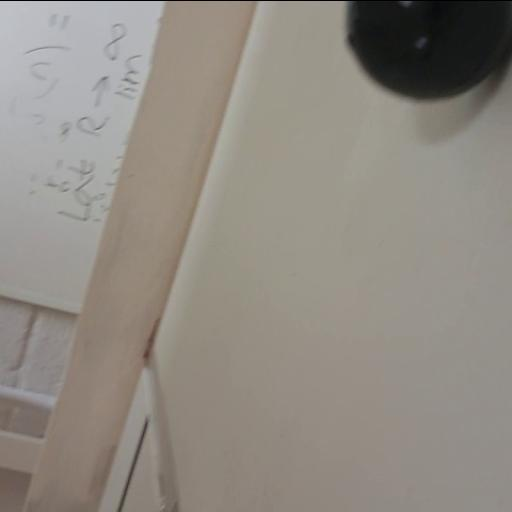dead: (344, 1, 510, 101)
